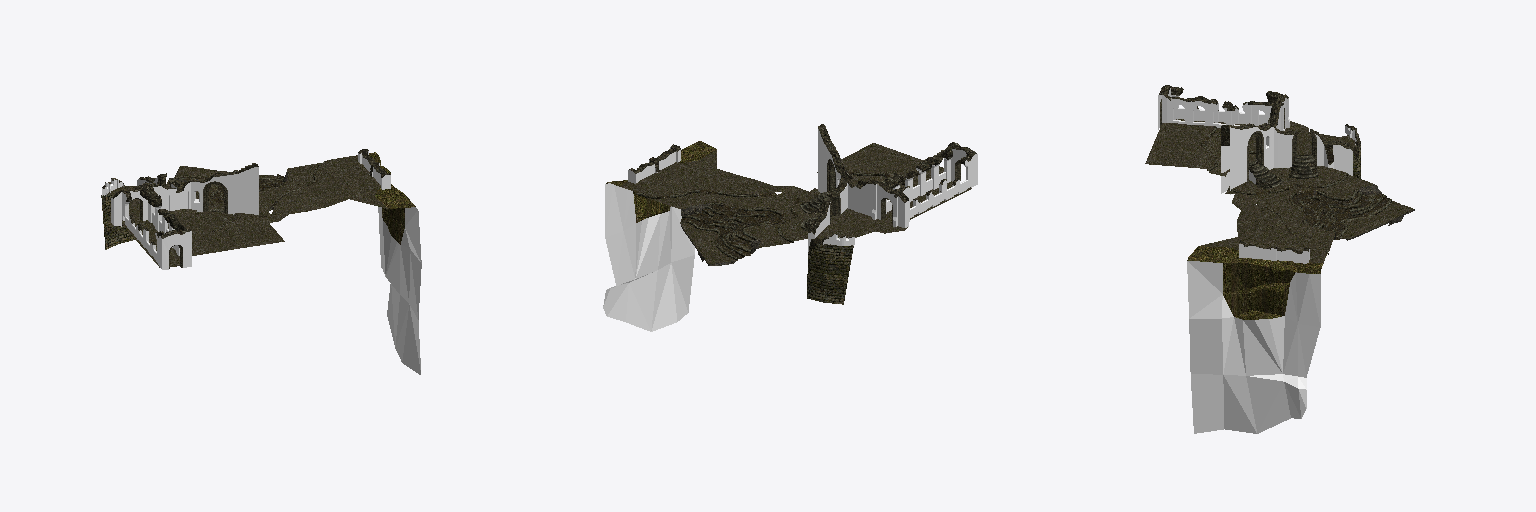
3 views of the same model, side by side, from view 1: azimuth 30°, elevation 25°; view 2: azimuth 150°, elevation 25°; view 3: azimuth 270°, elevation 25° (orthographic).
Parts seen in each view (by area): view 1: mesh0, mesh6, mesh15, mesh10, mesh11, mesh7, mesh14, mesh3, mesh5; view 2: mesh0, mesh15, mesh6, mesh11, mesh7, mesh10, mesh5, mesh14, mesh13, mesh3; view 3: mesh15, mesh0, mesh6, mesh14, mesh11, mesh10, mesh3, mesh12, mesh5.
Boxes of the visible parts, x1=… form: mesh0: x1=107, y1=155, x2=387, y2=267; mesh6: x1=111, y1=151, x2=390, y2=269; mesh15: x1=378, y1=207, x2=421, y2=374; mesh10: x1=111, y1=149, x2=390, y2=244; mesh11: x1=174, y1=158, x2=339, y2=233; mesh7: x1=101, y1=194, x2=134, y2=249; mesh14: x1=376, y1=153, x2=415, y2=244; mesh3: x1=369, y1=152, x2=414, y2=208; mesh5: x1=129, y1=174, x2=227, y2=268; mesh0: x1=619, y1=143, x2=971, y2=263; mesh15: x1=603, y1=183, x2=694, y2=331; mesh6: x1=628, y1=129, x2=977, y2=251; mesh11: x1=636, y1=172, x2=914, y2=259; mesh7: x1=807, y1=239, x2=853, y2=304; mesh10: x1=629, y1=124, x2=976, y2=234; mesh5: x1=824, y1=159, x2=960, y2=223; mesh14: x1=606, y1=182, x2=670, y2=222; mesh13: x1=635, y1=126, x2=966, y2=237; mesh3: x1=608, y1=141, x2=716, y2=185; mesh15: x1=1187, y1=261, x2=1320, y2=433; mesh0: x1=1145, y1=119, x2=1413, y2=263; mesh6: x1=1158, y1=88, x2=1352, y2=263; mesh14: x1=1187, y1=257, x2=1320, y2=319; mesh11: x1=1201, y1=126, x2=1391, y2=254; mesh10: x1=1159, y1=85, x2=1352, y2=253; mesh3: x1=1189, y1=246, x2=1322, y2=269; mesh12: x1=1249, y1=129, x2=1317, y2=187; mesh5: x1=1160, y1=99, x2=1316, y2=180.
Bounding box in the file's own units: 34.32 × 25.54 × 26.43.
Materials: 16 (9 with a texture image).